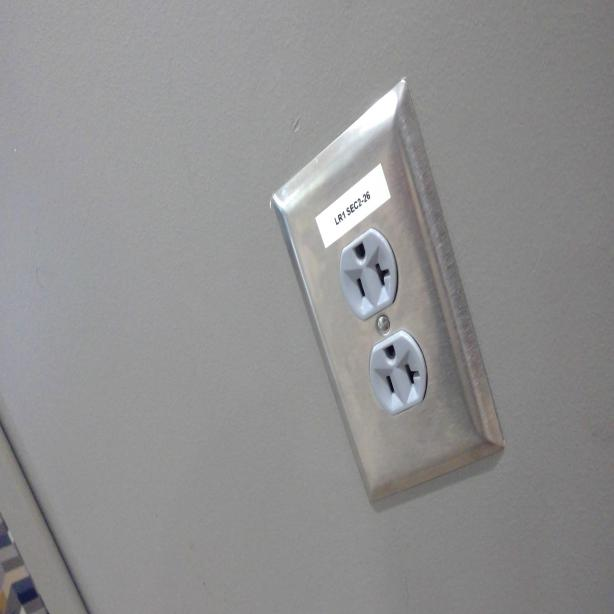typeb: (339, 231, 395, 313), (370, 338, 431, 408)
